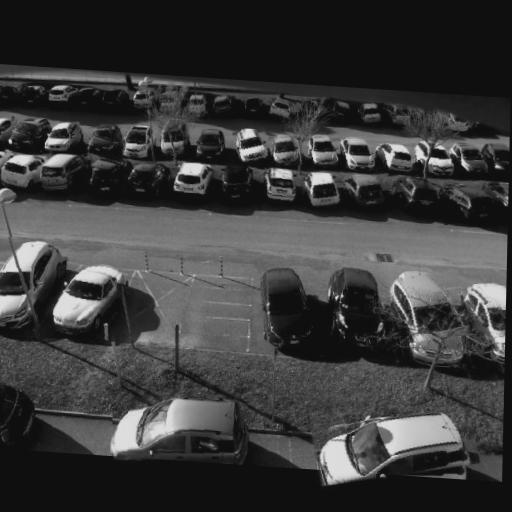busy: (312, 404, 479, 488), (112, 392, 251, 467), (46, 257, 127, 341), (389, 267, 469, 346), (0, 235, 65, 331), (325, 265, 398, 349), (258, 260, 324, 350), (439, 180, 503, 227), (469, 281, 506, 353), (0, 380, 37, 448), (37, 153, 89, 194), (344, 172, 393, 214), (395, 176, 445, 217), (169, 159, 214, 201), (123, 161, 171, 200), (0, 151, 44, 193), (303, 171, 348, 212), (41, 132, 83, 173), (216, 165, 258, 205), (86, 158, 129, 197), (7, 117, 51, 155), (86, 132, 125, 173), (432, 103, 476, 139), (233, 126, 271, 166), (262, 167, 301, 205), (43, 121, 84, 157), (376, 144, 420, 176), (341, 135, 380, 171), (305, 133, 343, 169), (269, 133, 306, 169), (453, 142, 491, 177), (84, 125, 124, 158), (118, 126, 156, 160), (420, 143, 457, 177), (159, 122, 192, 160), (194, 127, 229, 161), (386, 105, 420, 130), (268, 97, 298, 125), (155, 87, 185, 114), (208, 94, 239, 120), (326, 99, 357, 125), (356, 102, 387, 127), (484, 145, 509, 176), (73, 87, 104, 110), (19, 85, 49, 108), (183, 94, 210, 119), (491, 184, 509, 221), (129, 89, 157, 112), (296, 99, 324, 122), (241, 97, 267, 121), (102, 89, 129, 112), (46, 87, 75, 108), (0, 86, 22, 108), (0, 120, 13, 149)
